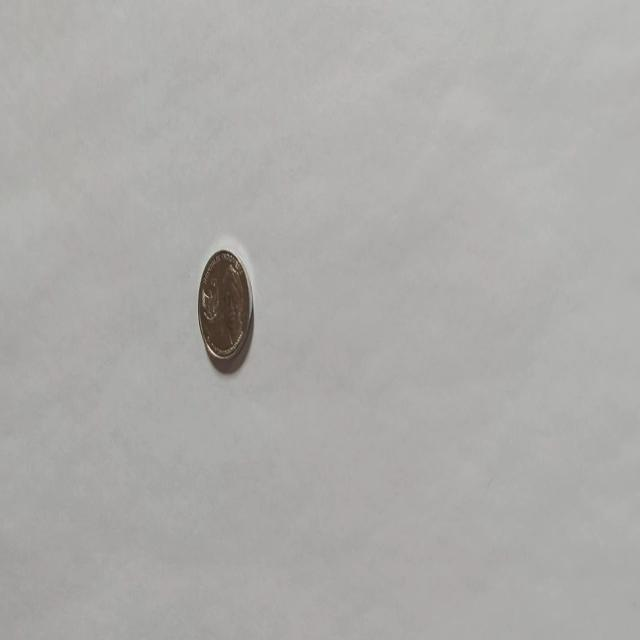dua ratus rupiah: (196, 247, 254, 368)
